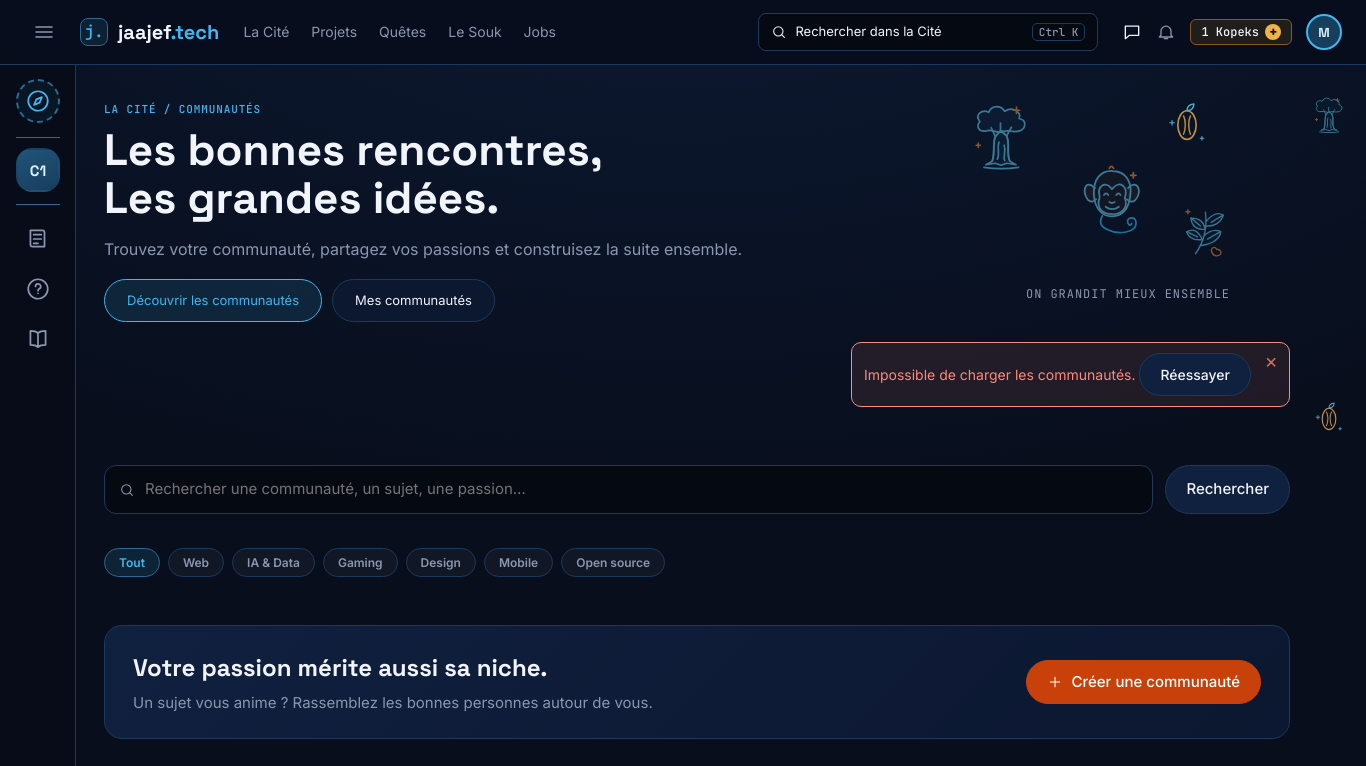
Scenario: Communities list › offers a retry when loading fails
The image size is (1366, 766).
Click the button "Réessayer" at (1195, 375), box [1139, 353, 1251, 396]
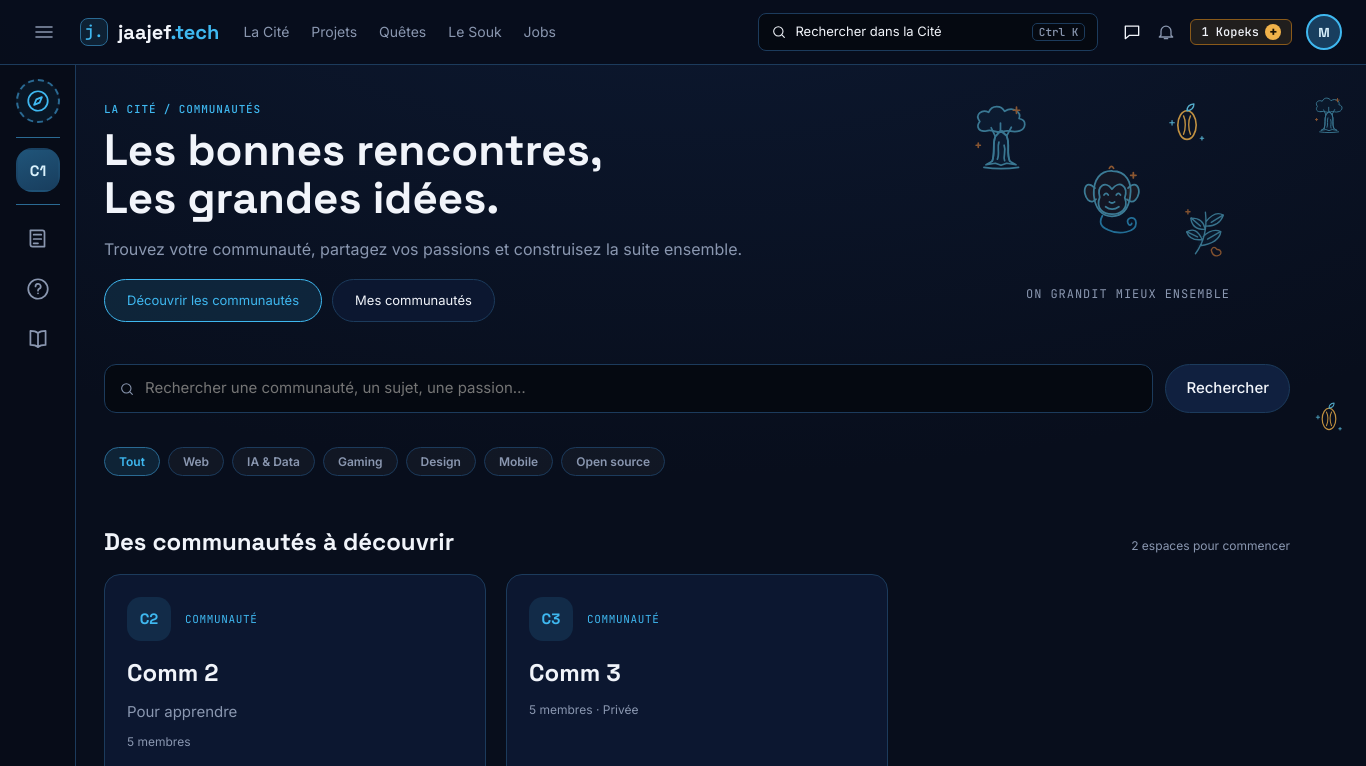
expect the heading "Comm 2" is shown: met, box [127, 657, 218, 688]
